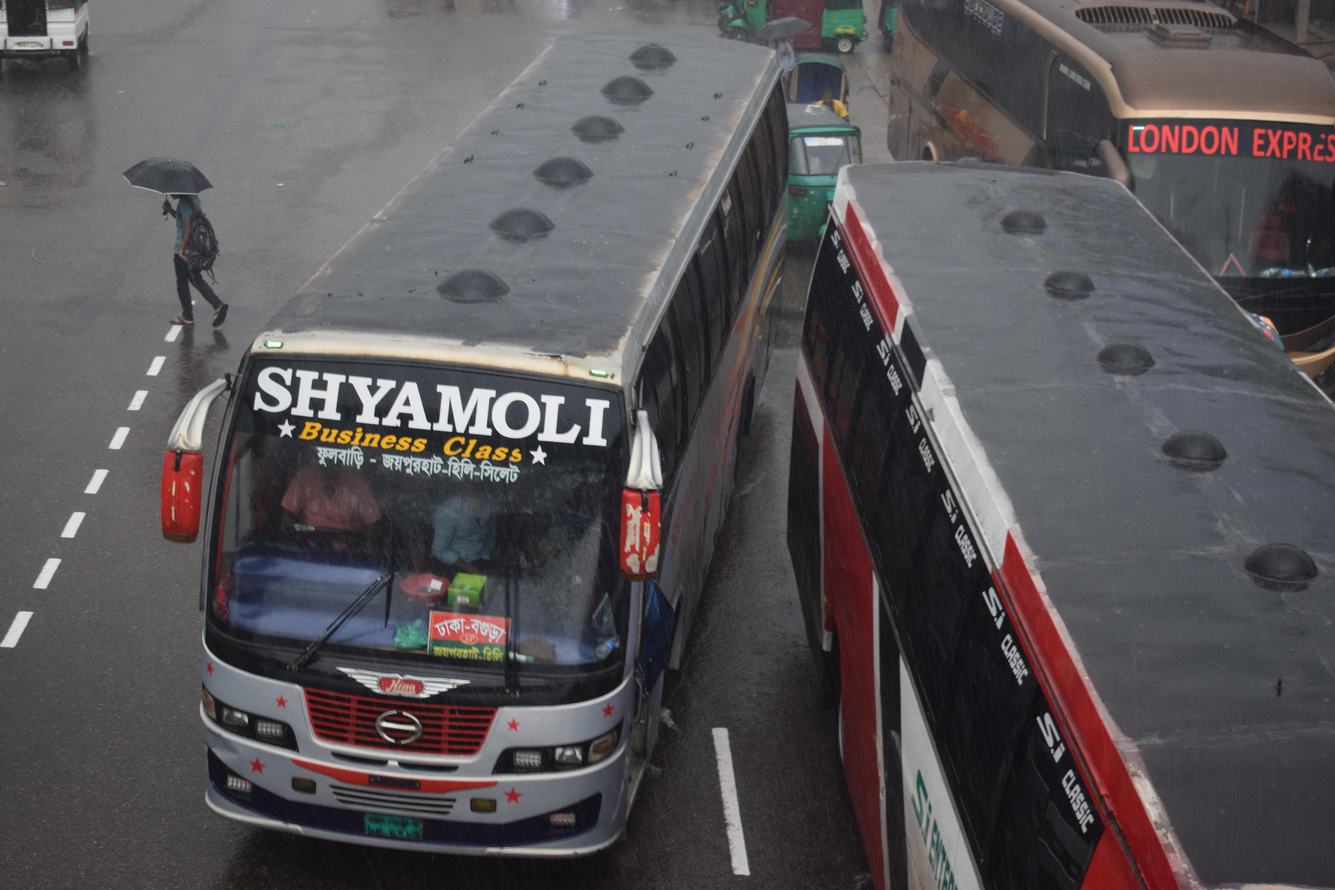Bus: (113, 15, 860, 890), (769, 135, 1335, 890), (857, 0, 1335, 380)
Car: (0, 0, 134, 96)
